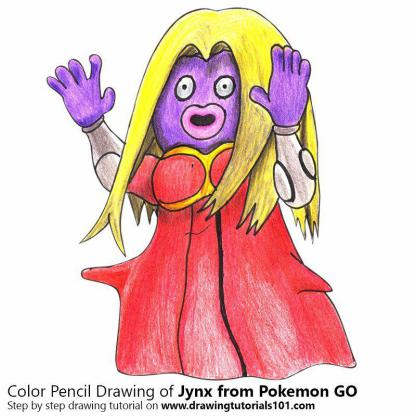Jynx: (8, 1, 414, 396)
